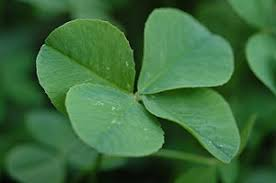4-clover: (37, 8, 242, 163)
